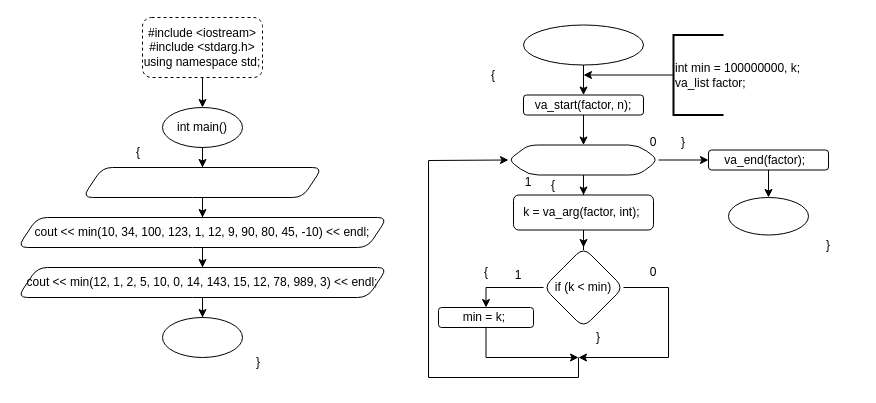
Image size: 876x403. Some labels were removed from this diagram. The centre of each missing label's shape, as x and y in pixels:
cout << min(5, 2, 3, 4, 6, 1) << endl;: (x=202, y=182)
for (int i = 0; i < n; i++): (x=583, y=159)
int min(int n, ...): (x=583, y=44)
return 0;: (x=202, y=337)
return min;: (x=768, y=215)
